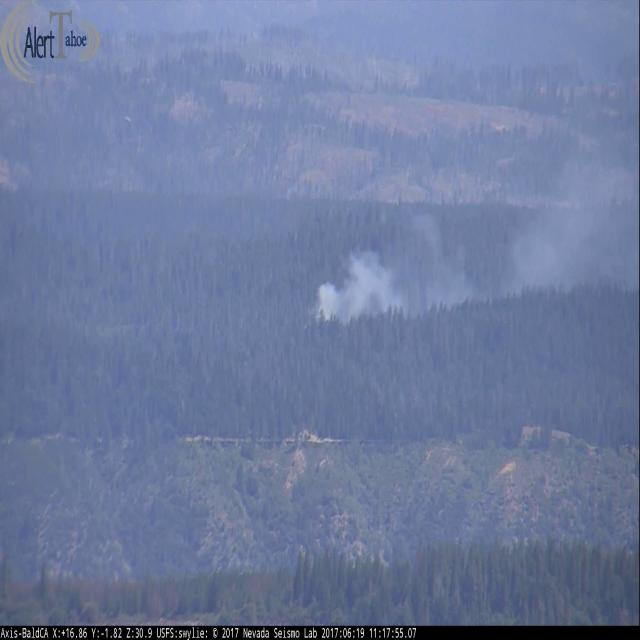smoke: (303, 162, 618, 343)
